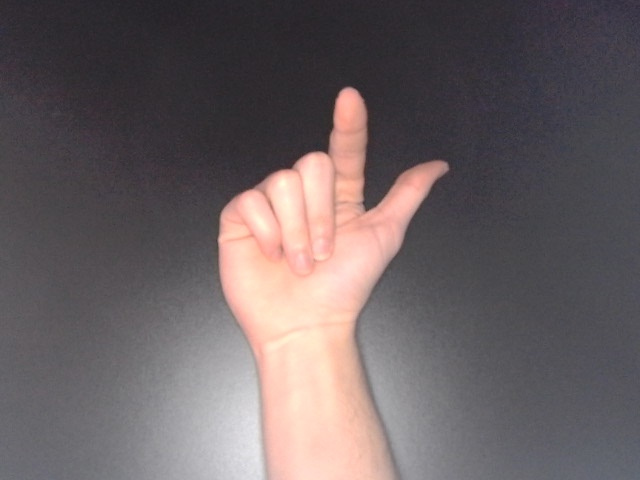t: (209, 82, 455, 357)
